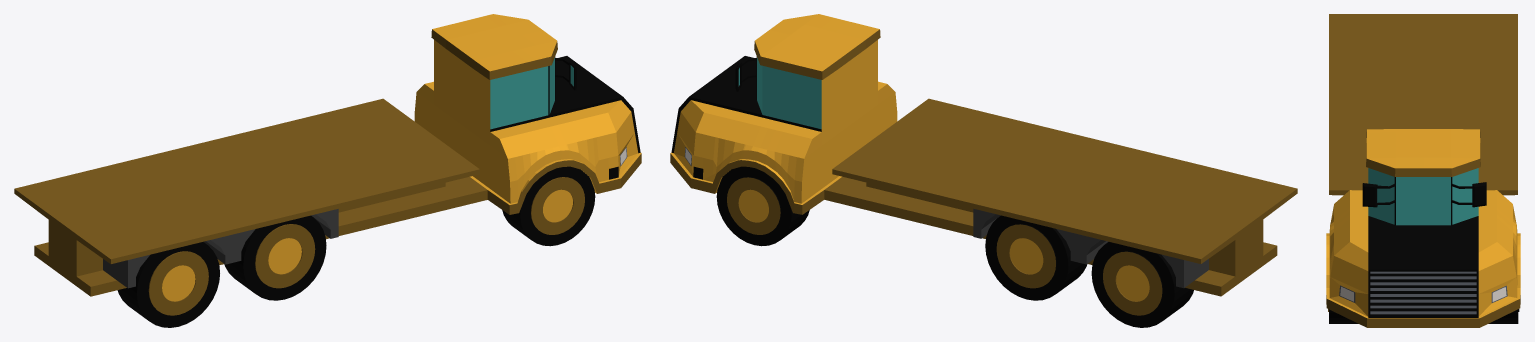
The model's file is construction truck - Copy.fbx.
3 renders of one model, left to right at view 1: azimuth 30°, elevation 25°; view 2: azimuth 150°, elevation 25°; view 3: azimuth 270°, elevation 25°, orthographic. The views are drawn at different scales.
Parts seen in each view (by area): view 1: truck base; view 2: truck base; view 3: truck base.
Part boxes in pixels (x1=…): truck base: x1=14, y1=14, x2=641, y2=327; truck base: x1=670, y1=14, x2=1297, y2=327; truck base: x1=1326, y1=14, x2=1520, y2=327.
Size of the model in its own units: 696 by 208 by 217.
